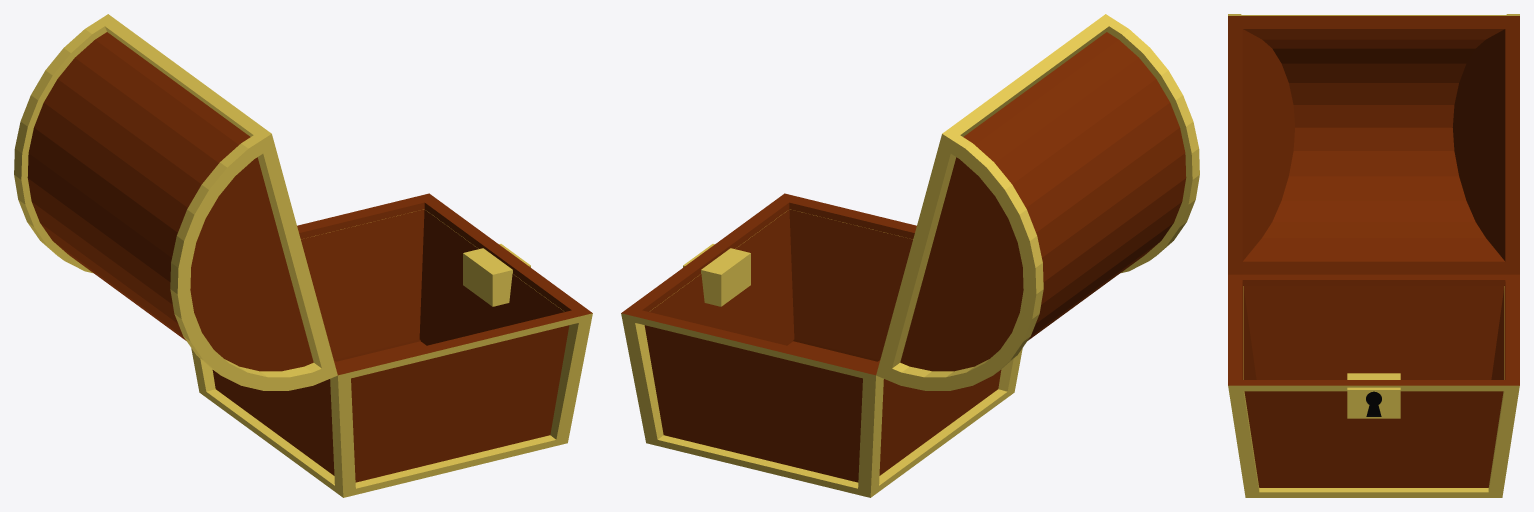
File: TreasureChest.fbx
3 renders of one model, left to right at view 1: azimuth 30°, elevation 25°; view 2: azimuth 150°, elevation 25°; view 3: azimuth 270°, elevation 25°, orthographic. The views are drawn at different scales.
Parts seen in each view (by area): view 1: Lid, Cube, Keyhole; view 2: Lid, Cube, Keyhole; view 3: Lid, Cube, Keyhole.
Boxes of the visible parts, x1=… form: Lid: x1=14, y1=14, x2=337, y2=390; Cube: x1=191, y1=193, x2=592, y2=497; Keyhole: x1=463, y1=244, x2=530, y2=306; Lid: x1=876, y1=14, x2=1199, y2=390; Cube: x1=621, y1=193, x2=1022, y2=497; Keyhole: x1=683, y1=244, x2=750, y2=306; Lid: x1=1228, y1=14, x2=1519, y2=274; Cube: x1=1228, y1=274, x2=1519, y2=497; Keyhole: x1=1347, y1=373, x2=1400, y2=418.
Bounding box in the file's own units: 297 × 264 × 200.
